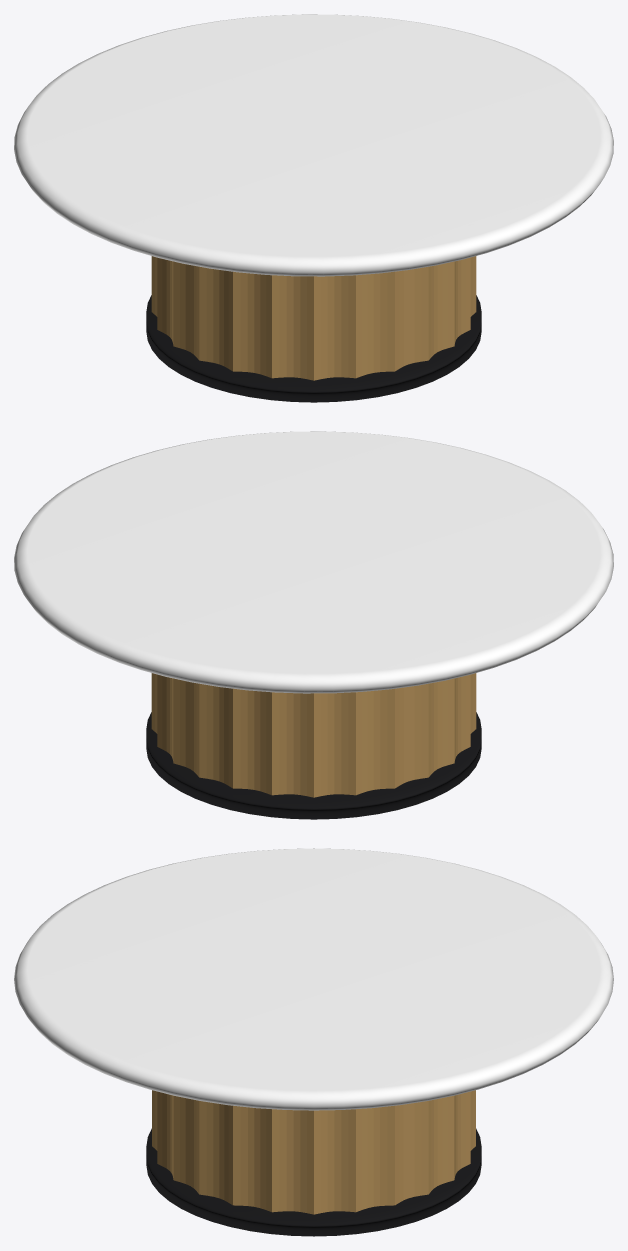
Rendered from table_lounge.glb.
3 renders of one model, top to bottom at view 1: azimuth 30°, elevation 25°; view 2: azimuth 150°, elevation 25°; view 3: azimuth 270°, elevation 25°, orthographic.
Visible parts, largest first — view 1: Mesh_Top, Mesh_Drum, Mesh_Plinth; view 2: Mesh_Top, Mesh_Drum, Mesh_Plinth; view 3: Mesh_Top, Mesh_Drum, Mesh_Plinth.
Boxes of the visible parts, x1=… form: Mesh_Top: x1=14, y1=14, x2=613, y2=276; Mesh_Drum: x1=151, y1=256, x2=476, y2=380; Mesh_Plinth: x1=146, y1=295, x2=481, y2=402; Mesh_Top: x1=14, y1=431, x2=613, y2=693; Mesh_Drum: x1=151, y1=673, x2=476, y2=797; Mesh_Plinth: x1=146, y1=712, x2=481, y2=819; Mesh_Top: x1=14, y1=848, x2=613, y2=1110; Mesh_Drum: x1=152, y1=1090, x2=475, y2=1214; Mesh_Plinth: x1=146, y1=1128, x2=481, y2=1236.
Bounding box in the file's own units: 1.11 × 0.4 × 1.11.
